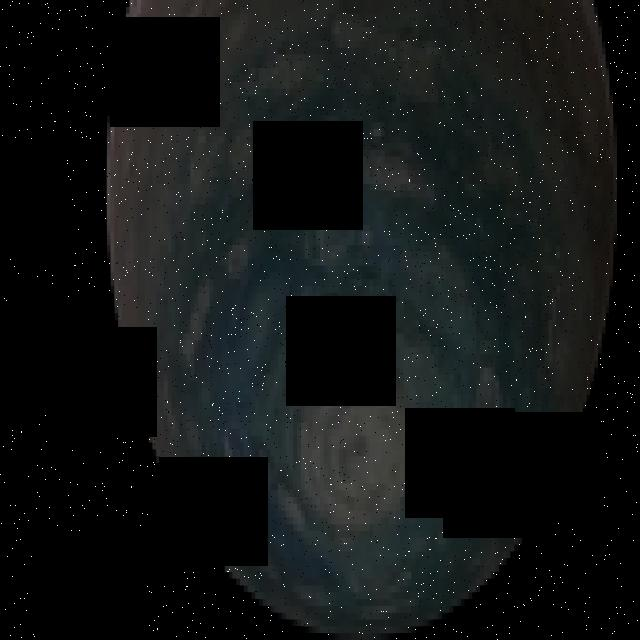Jupiter: (103, 0, 621, 640)
